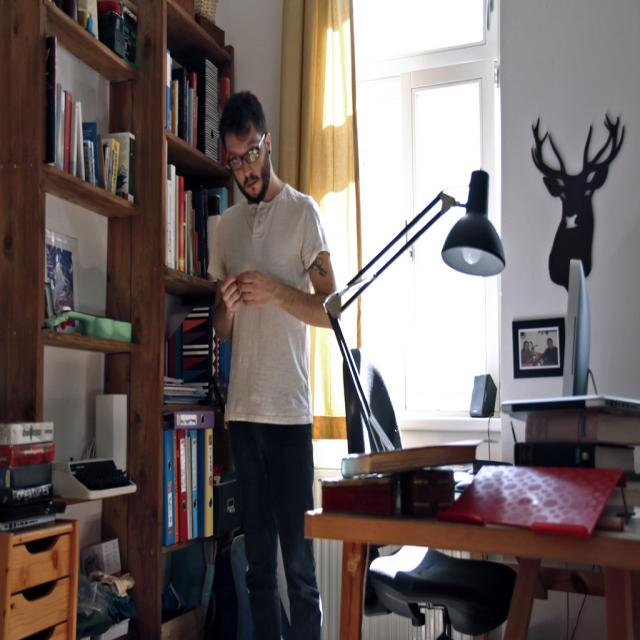desk: (306, 507, 639, 632)
person: (208, 87, 336, 635)
